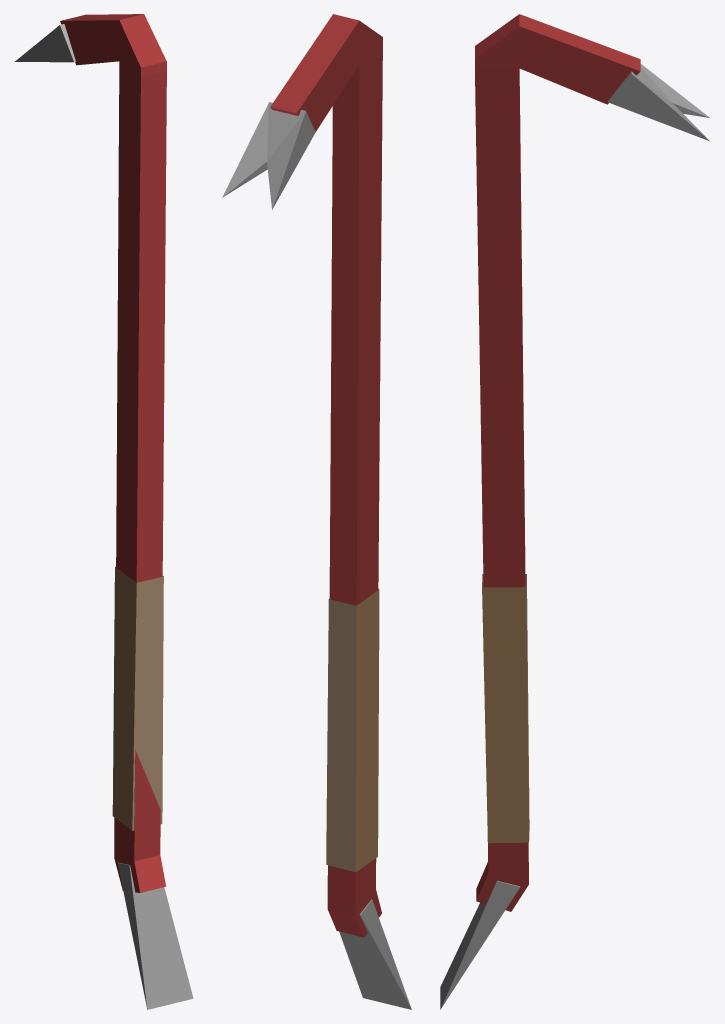
Rendered from Item_Crowbar00.FBX.
3 views of the same model, side by side, from view 1: azimuth 30°, elevation 25°; view 2: azimuth 150°, elevation 25°; view 3: azimuth 270°, elevation 25° (orthographic). The views are drawn at different scales.
Visible parts, largest first — view 1: Item_Crowbar00; view 2: Item_Crowbar00; view 3: Item_Crowbar00.
Boxes of the visible parts, bbox=[...] form: Item_Crowbar00: bbox=[15, 14, 193, 1009]; Item_Crowbar00: bbox=[222, 14, 411, 1009]; Item_Crowbar00: bbox=[440, 14, 709, 1009].
Size of the model in its own units: 4.32 by 83.75 by 20.96.
